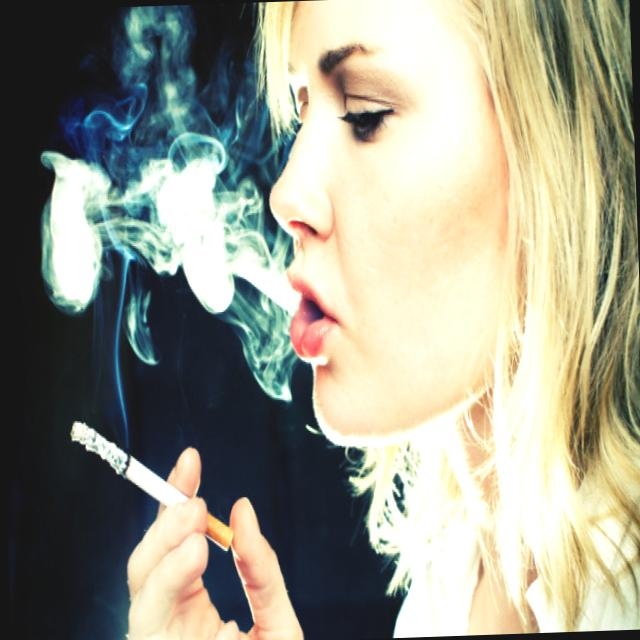cigarette: (64, 411, 236, 572)
